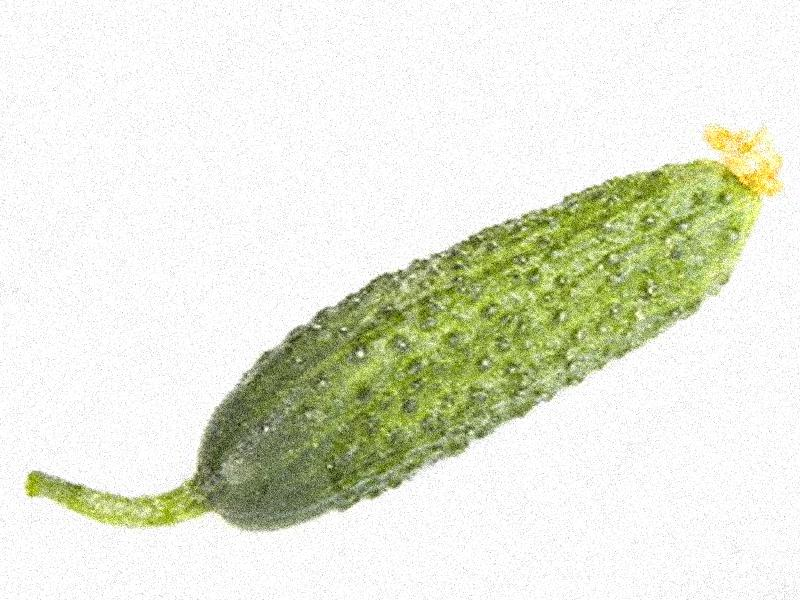Cucumber: (32, 119, 786, 531)
